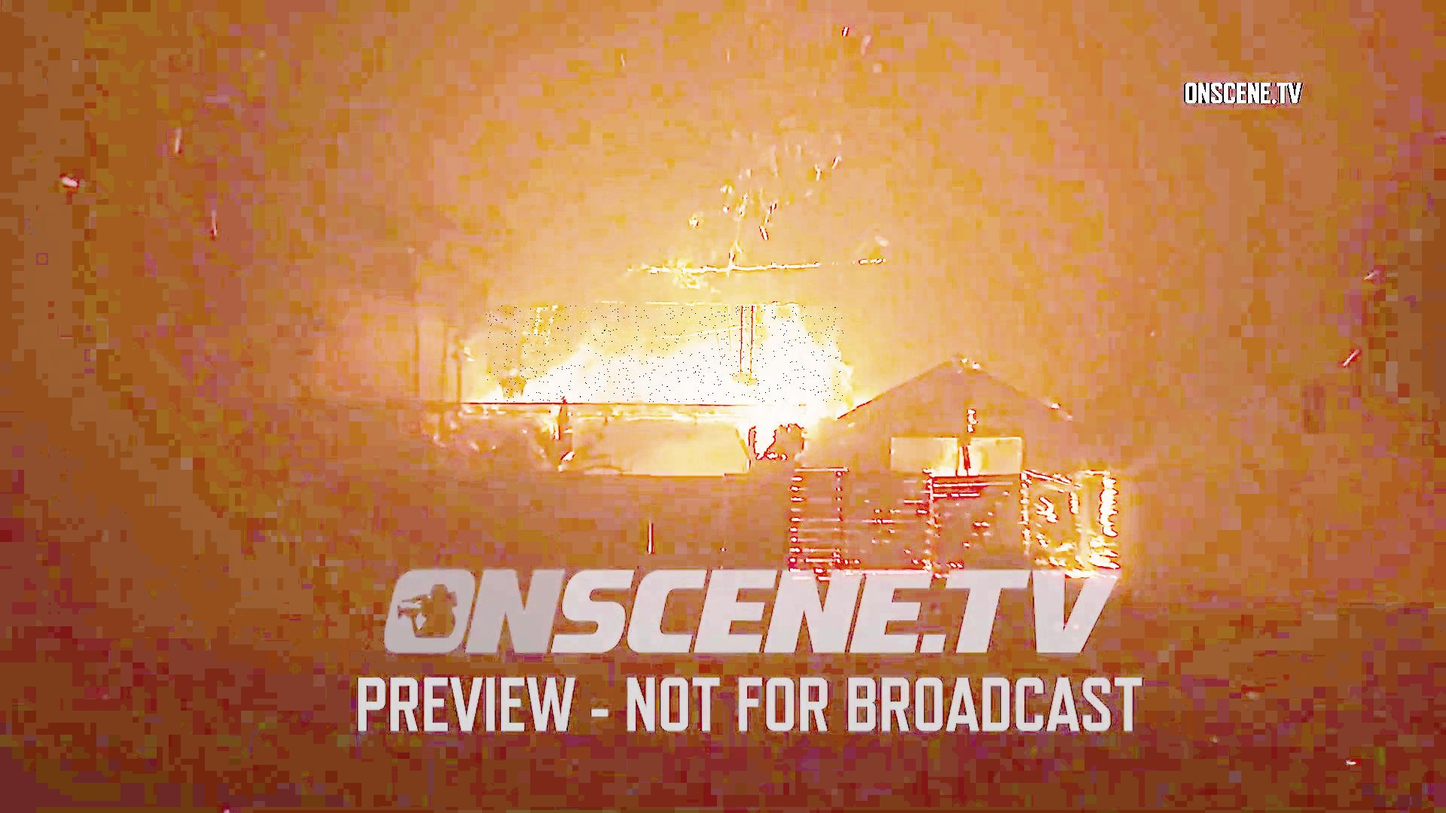fire: (486, 306, 844, 402)
